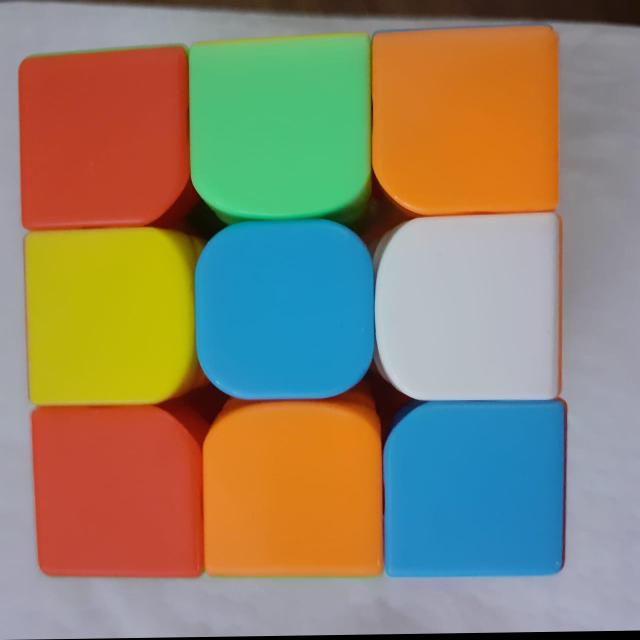Blue: (199, 219, 367, 399), (388, 405, 564, 564)
Green: (193, 47, 364, 214)
Orange: (378, 36, 558, 216), (206, 407, 374, 577)
Red: (18, 53, 186, 225), (34, 409, 198, 578)
White: (380, 221, 558, 400)
Yellow: (28, 227, 186, 401)
